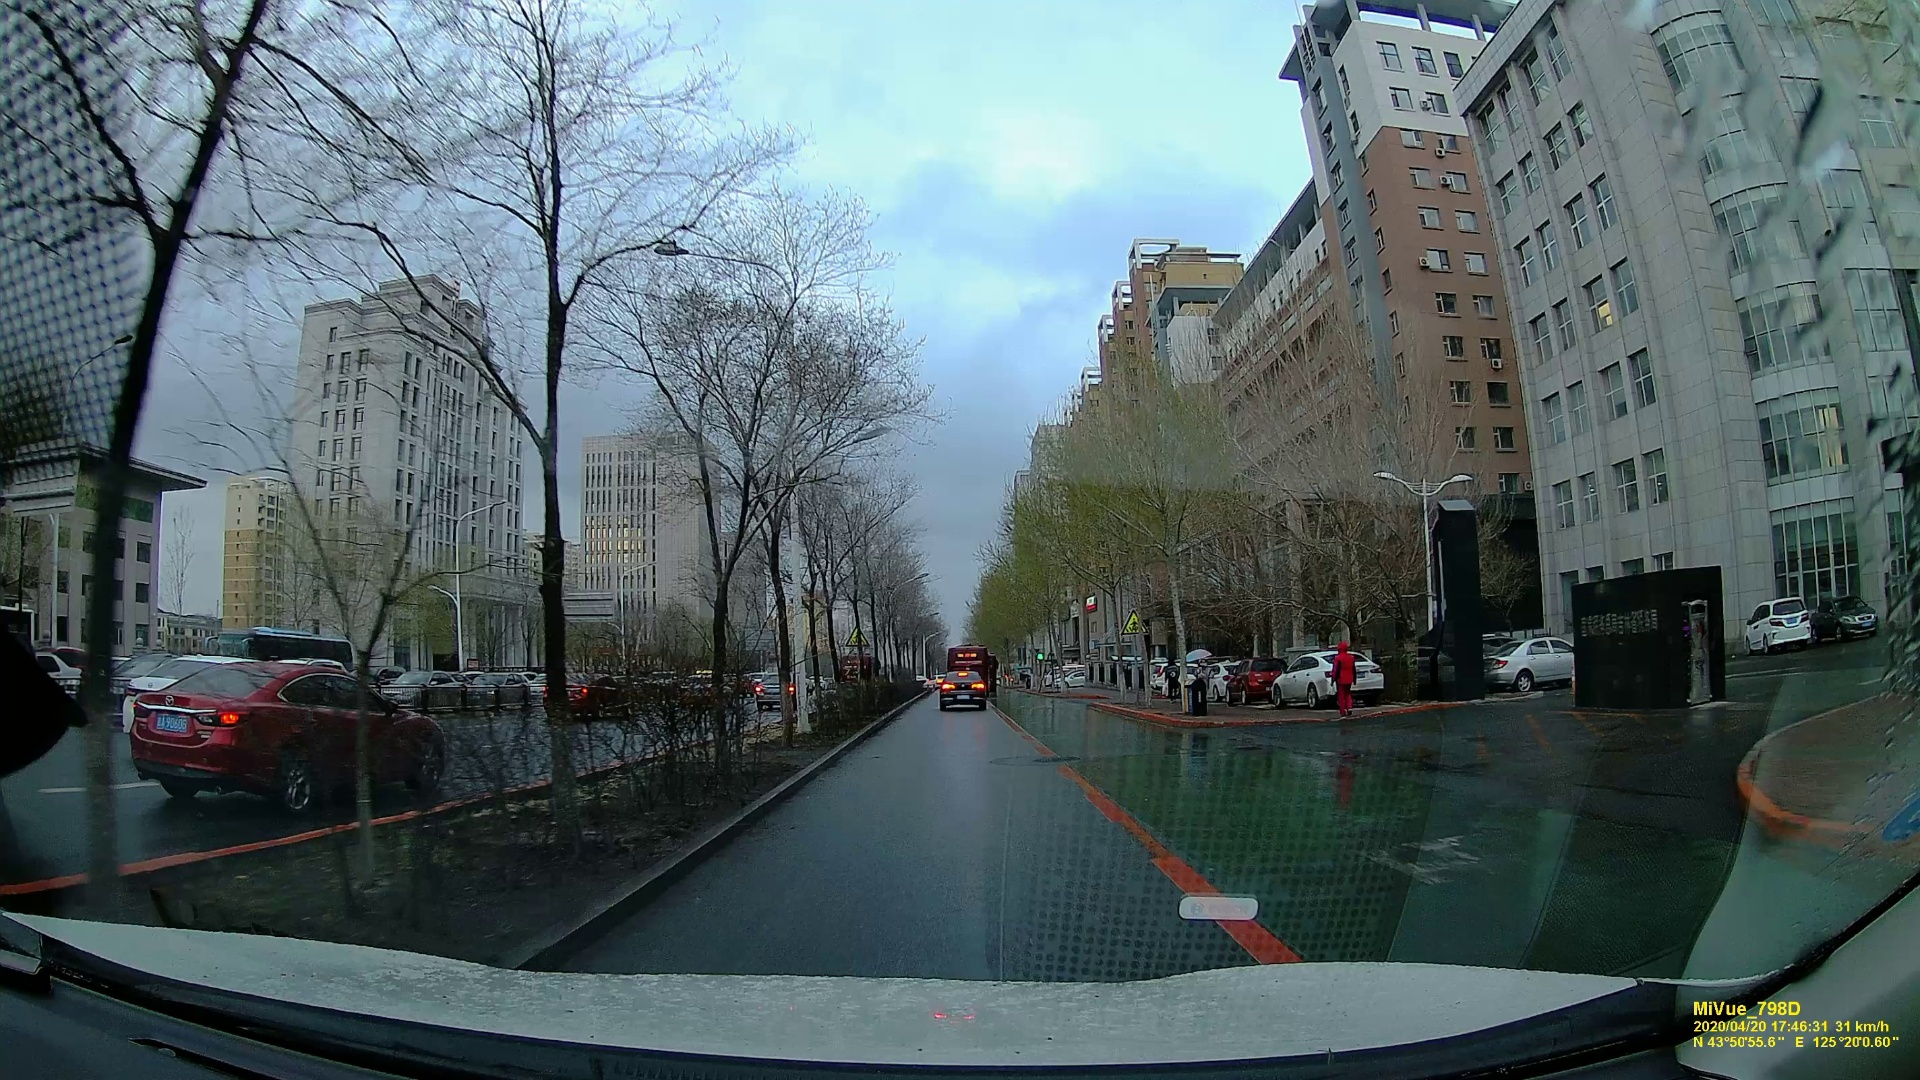bus: (945, 644, 989, 673)
person: (1329, 640, 1355, 720), (1195, 657, 1212, 690)
traffic_sign: (1119, 611, 1149, 636), (1165, 655, 1180, 700), (846, 626, 870, 649)
vehicle: (128, 658, 449, 814), (1275, 647, 1386, 706), (1484, 632, 1580, 691), (1746, 596, 1813, 656), (936, 670, 988, 709)
